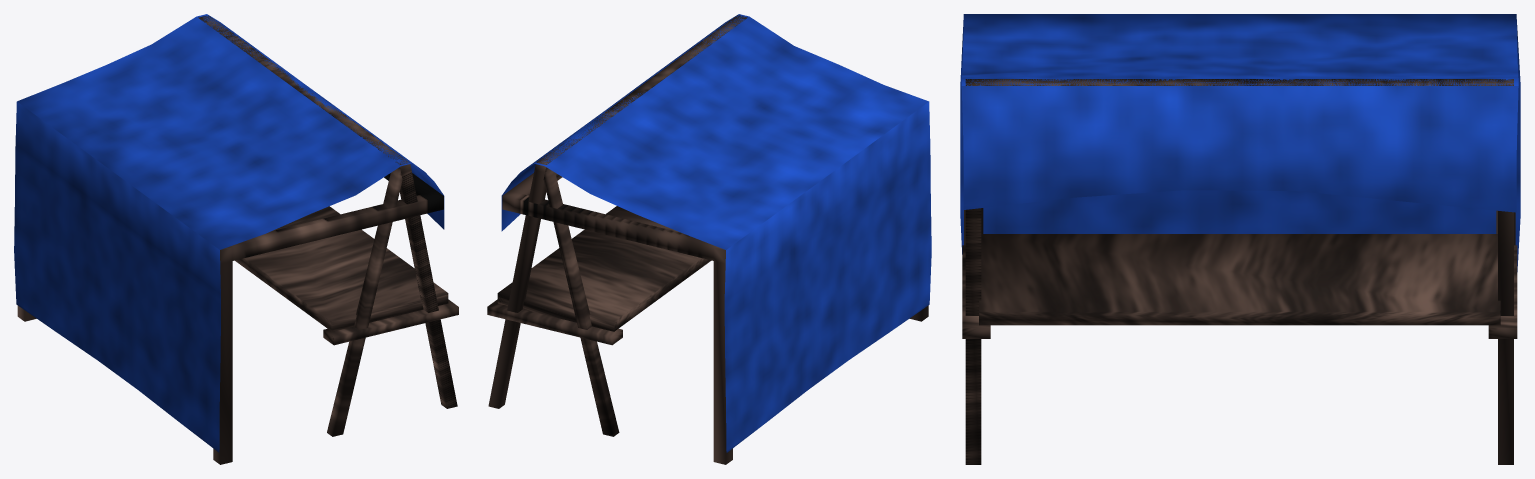
File: StandBlue.glb
3 views of the same model, side by side, from view 1: azimuth 30°, elevation 25°; view 2: azimuth 150°, elevation 25°; view 3: azimuth 270°, elevation 25° (orthographic). The views are drawn at different scales.
Visible parts, largest first — view 1: Cube; view 2: Cube; view 3: Cube.
Boxes of the visible parts, <box> form: Cube: <box>14,14,458,464</box>; Cube: <box>487,14,931,464</box>; Cube: <box>960,14,1520,464</box>.
Bounding box in the file's own units: 7.43 × 7.54 × 11.01.
2 materials, 2 textured.
